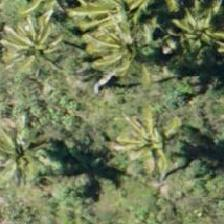coconut_tree: (104, 91, 194, 181), (77, 5, 167, 95), (0, 1, 78, 91), (0, 103, 66, 193), (154, 0, 223, 76), (57, 0, 147, 52)
